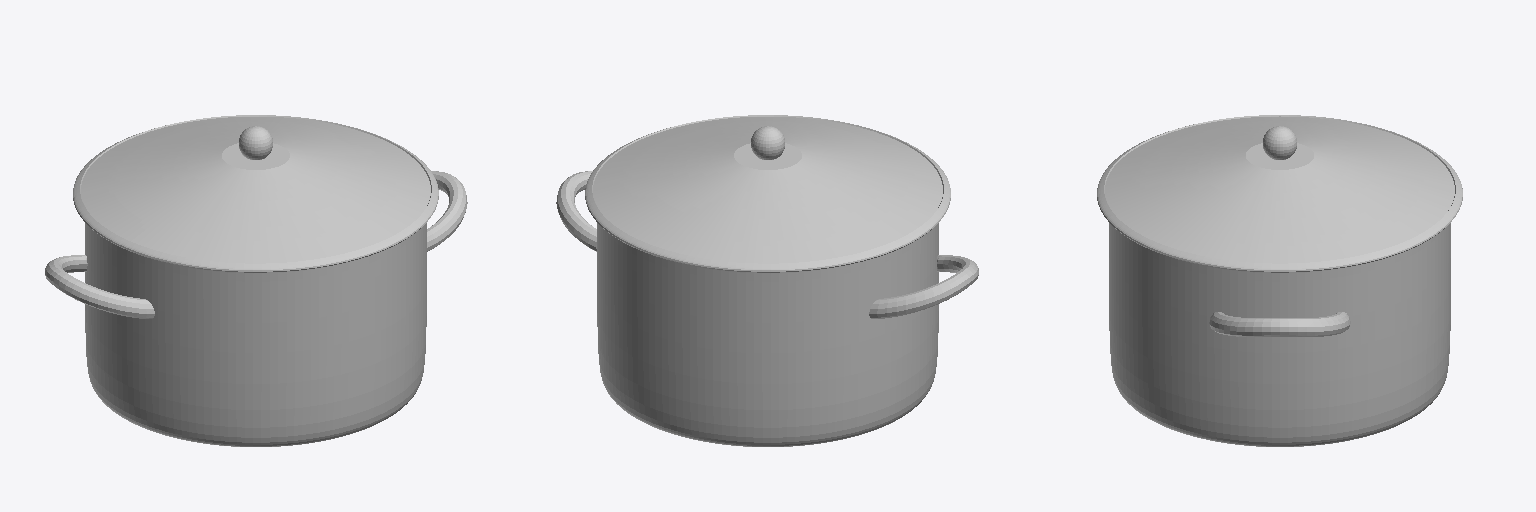
Rendered from uploads_files_3042920_untitled.obj.
The picture shows the model from 3 angles: view 1: azimuth 30°, elevation 25°; view 2: azimuth 150°, elevation 25°; view 3: azimuth 270°, elevation 25°; orthographic projection.
Parts seen in each view (by area): view 1: Окружность.001_Окружность.002; view 2: Окружность.001_Окружность.002; view 3: Окружность.001_Окружность.002.
Part boxes in pixels (left/top/right/bottom): Окружность.001_Окружность.002: left=45, top=115, right=467, bottom=446; Окружность.001_Окружность.002: left=556, top=115, right=978, bottom=446; Окружность.001_Окружность.002: left=1097, top=115, right=1462, bottom=446.
Bounding box in the file's own units: 1.1 × 0.664 × 0.8583.